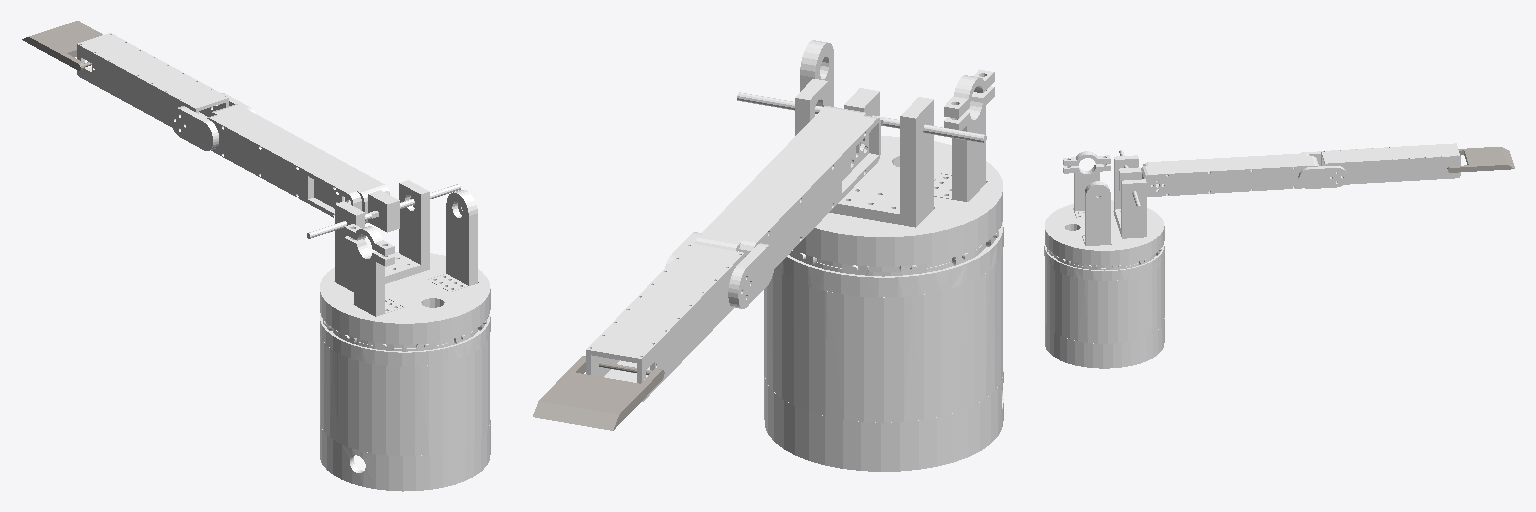
robot.urdf — transportador2:
<?xml version='1.0' encoding='utf-8'?>
<robot name="transportador2">
  <!-- GENERADO por herramientas/preparar_urdf.py a partir de originales/transportador2_urdf_2.urdf. No editar a mano: editar el original o la herramienta y regenerar. -->
  <link name="world" />
  <joint name="fijar_al_suelo" type="fixed">
    <parent link="world" />
    <child link="base_link" />
    <origin xyz="0 0 0.21" rpy="0 0 0" />
  </joint>
  <link name="base_link">
    <inertial>
      <origin xyz="0.0014422 -0.089162 1.1102" rpy="0 0 0" />
      <mass value="2.1674" />
      <inertia ixx="0.011298" ixy="-6.1106E-05" ixz="-8.7801E-05" iyy="0.017974" iyz="3.4946E-05" izz="0.011188" />
    </inertial>
    <visual>
      <origin xyz="0 0 0" rpy="0 0 0" />
      <geometry>
        <mesh filename="package://urdf_2/meshes/base_link.STL" />
      </geometry>
      <material name="">
        <color rgba="1 1 1 1" />
      </material>
    </visual>
  </link>
  <link name="link_1">
    <inertial>
      <origin xyz="0.0091816 0.00093504 -0.0015377" rpy="0 0 0" />
      <mass value="1.4686" />
      <inertia ixx="0.0041792" ixy="5.5678E-05" ixz="2.0281E-05" iyy="0.0037762" iyz="6.918E-06" izz="0.0067156" />
    </inertial>
    <visual>
      <origin xyz="0 0 0" rpy="0 0 0" />
      <geometry>
        <mesh filename="package://urdf_2/meshes/link_1.STL" />
      </geometry>
      <material name="">
        <color rgba="1 1 1 1" />
      </material>
    </visual>
  </link>
  <joint name="joint_1_base" type="continuous">
    <origin xyz="0.002426 -1.1147 0.046072" rpy="0 0 1.5708" />
    <parent link="base_link" />
    <child link="link_1" />
    <axis xyz="0 0 1" />
    <limit effort="1.5" velocity="2" />
    <dynamics damping="0.5" friction="0.0" />
  </joint>
  <link name="link_2">
    <inertial>
      <origin xyz="0.14452 -0.0049054 -0.022656" rpy="0 0 0" />
      <mass value="0.52185" />
      <inertia ixx="0.00067805" ixy="-6.0559E-19" ixz="0.00038465" iyy="0.0039063" iyz="-2.973E-19" izz="0.003423" />
    </inertial>
    <visual>
      <origin xyz="0 0 0" rpy="0 0 0" />
      <geometry>
        <mesh filename="package://urdf_2/meshes/link_2.STL" />
      </geometry>
      <material name="">
        <color rgba="1 1 1 1" />
      </material>
    </visual>
  </link>
  <joint name="joint_2_hombro" type="revolute">
    <origin xyz="0.052065 0.004646 0.093" rpy="1.5708 0 0" />
    <parent link="link_1" />
    <child link="link_2" />
    <axis xyz="0.13441 0 0.99093" />
    <limit lower="-1.309" upper="1.745" effort="3" velocity="2" />
    <dynamics damping="0.5" friction="0.0" />
  </joint>
  <link name="link_3">
    <inertial>
      <origin xyz="0.11376 0.0017306 -0.015307" rpy="0 0 0" />
      <mass value="0.31589" />
      <inertia ixx="0.00015104" ixy="1.0185E-06" ixz="0.00014026" iyy="0.001283" iyz="-4.9232E-07" izz="0.0011963" />
    </inertial>
    <visual>
      <origin xyz="0 0 0" rpy="0 0 0" />
      <geometry>
        <mesh filename="package://urdf_2/meshes/link_3.STL" />
      </geometry>
      <material name="">
        <color rgba="1 1 1 1" />
      </material>
    </visual>
  </link>
  <joint name="joint_3_brazo" type="revolute">
    <origin xyz="0.3238 -0.0055 -0.046443" rpy="0 0 0" />
    <parent link="link_2" />
    <child link="link_3" />
    <axis xyz="-0.13441 0 -0.99093" />
    <limit lower="-1.745" upper="1.745" effort="2.5" velocity="2" />
    <dynamics damping="0.5" friction="0.0" />
  </joint>
  <link name="link_4">
    <inertial>
      <origin xyz="0.057716 -0.0001247 -0.0078286" rpy="0 0 0" />
      <mass value="0.081794" />
      <inertia ixx="4.8686E-05" ixy="4.3805E-07" ixz="2.677E-07" iyy="9.8121E-05" iyz="-5.9417E-08" izz="5.0624E-05" />
    </inertial>
    <visual>
      <origin xyz="0 0 0" rpy="0 0 0" />
      <geometry>
        <mesh filename="package://urdf_2/meshes/link_4.STL" />
      </geometry>
      <material name="">
        <color rgba="0.77647 0.75686 0.73725 1" />
      </material>
    </visual>
  </link>
  <joint name="joint_4_muneca" type="revolute">
    <origin xyz="0.25764 0.0025 -0.034947" rpy="0 0 0" />
    <parent link="link_3" />
    <child link="link_4" />
    <axis xyz="0.13441 0 0.99093" />
    <limit lower="-1.745" upper="1.745" effort="1.5" velocity="2" />
    <dynamics damping="0.5" friction="0.0" />
  </joint>
  <gazebo>
    <plugin filename="gz-sim-joint-position-controller-system" name="gz::sim::systems::JointPositionController">
      <joint_name>joint_1_base</joint_name>
      <topic>/transportador2/joint_1_base/cmd_pos</topic>
      <p_gain>120.0</p_gain>
      <i_gain>40.0</i_gain>
      <d_gain>6.0</d_gain>
      <i_max>20.0</i_max>
      <i_min>-20.0</i_min>
      <cmd_max>60.0</cmd_max>
      <cmd_min>-60.0</cmd_min>
    </plugin>
  </gazebo>
  <gazebo>
    <plugin filename="gz-sim-joint-position-controller-system" name="gz::sim::systems::JointPositionController">
      <joint_name>joint_2_hombro</joint_name>
      <topic>/transportador2/joint_2_hombro/cmd_pos</topic>
      <p_gain>120.0</p_gain>
      <i_gain>40.0</i_gain>
      <d_gain>6.0</d_gain>
      <i_max>20.0</i_max>
      <i_min>-20.0</i_min>
      <cmd_max>60.0</cmd_max>
      <cmd_min>-60.0</cmd_min>
    </plugin>
  </gazebo>
  <gazebo>
    <plugin filename="gz-sim-joint-position-controller-system" name="gz::sim::systems::JointPositionController">
      <joint_name>joint_3_brazo</joint_name>
      <topic>/transportador2/joint_3_brazo/cmd_pos</topic>
      <p_gain>120.0</p_gain>
      <i_gain>40.0</i_gain>
      <d_gain>6.0</d_gain>
      <i_max>20.0</i_max>
      <i_min>-20.0</i_min>
      <cmd_max>60.0</cmd_max>
      <cmd_min>-60.0</cmd_min>
    </plugin>
  </gazebo>
  <gazebo>
    <plugin filename="gz-sim-joint-position-controller-system" name="gz::sim::systems::JointPositionController">
      <joint_name>joint_4_muneca</joint_name>
      <topic>/transportador2/joint_4_muneca/cmd_pos</topic>
      <p_gain>120.0</p_gain>
      <i_gain>40.0</i_gain>
      <d_gain>6.0</d_gain>
      <i_max>20.0</i_max>
      <i_min>-20.0</i_min>
      <cmd_max>60.0</cmd_max>
      <cmd_min>-60.0</cmd_min>
    </plugin>
  </gazebo>
  <gazebo>
    <plugin filename="gz-sim-joint-state-publisher-system" name="gz::sim::systems::JointStatePublisher" />
  </gazebo>
</robot>

--- What the picture shows (computed from the rendered views, not written in the file) ---
3 views of the same robot in one strip: view 1: azimuth 30°, elevation 25°; view 2: azimuth 150°, elevation 25°; view 3: azimuth 270°, elevation 25° (orthographic).
Model transportador2 with 6 links and 5 joints (3 revolute, 1 continuous, 1 fixed), rooted at world, posed every joint at zero.
Links seen in each view (by area): view 1: base_link, link_1, link_2, link_3, link_4; view 2: base_link, link_1, link_2, link_3, link_4; view 3: base_link, link_1, link_2, link_3, link_4.
Link boxes in pixels (x1,y1,x2,y2): base_link: (320, 313, 490, 491); link_1: (320, 180, 490, 350); link_2: (207, 104, 460, 238); link_3: (77, 33, 255, 150); link_4: (22, 21, 102, 70); base_link: (764, 222, 1003, 471); link_1: (793, 40, 1002, 275); link_2: (694, 88, 986, 268); link_3: (586, 232, 774, 401); link_4: (533, 356, 664, 430); base_link: (1044, 245, 1164, 368); link_1: (1045, 151, 1164, 269); link_2: (1119, 150, 1318, 209); link_3: (1298, 143, 1460, 188); link_4: (1447, 147, 1514, 172).
Bounding box of the posed robot: 0.2591 × 0.8631 × 0.3603 m (x, y, z).
Meshes: 5 distinct files referenced, 5 mesh visuals loaded (5 binary STL).
